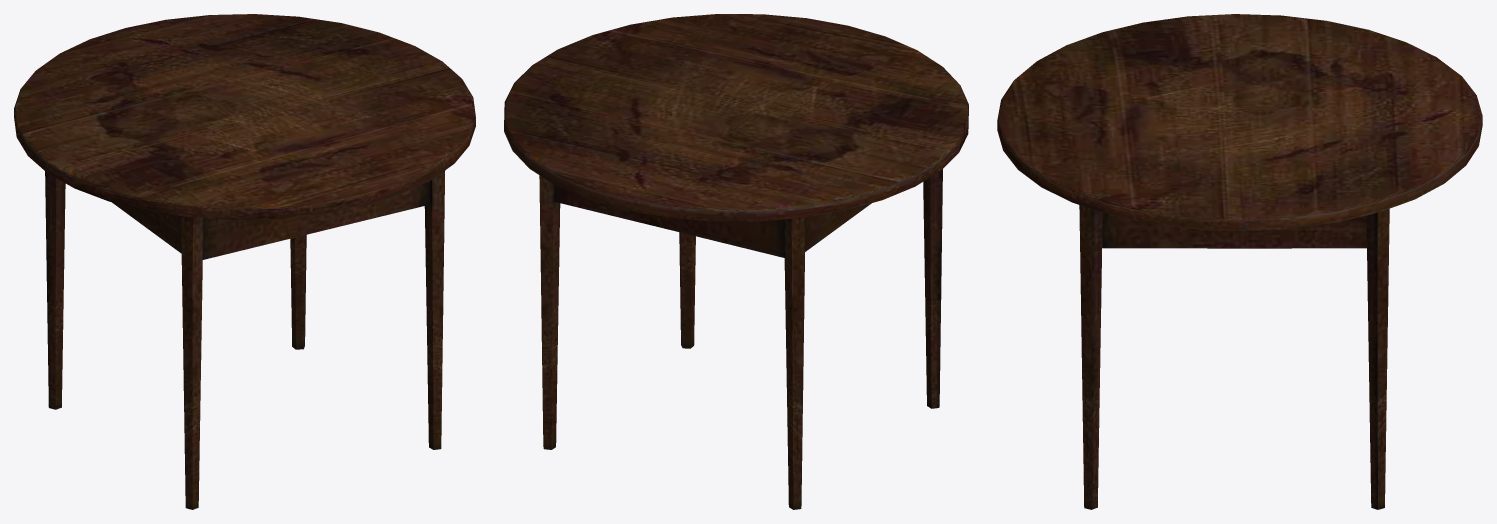
The model's file is furnituretable001a.glb.
3 renders of one model, left to right at view 1: azimuth 30°, elevation 25°; view 2: azimuth 150°, elevation 25°; view 3: azimuth 270°, elevation 25°, orthographic. The views are drawn at different scales.
Parts seen in each view (by area): view 1: 0_FurnitureTable001a; view 2: 0_FurnitureTable001a; view 3: 0_FurnitureTable001a.
Part boxes in pixels (x1,y1,x2,y2): 0_FurnitureTable001a: (14, 14, 475, 509); 0_FurnitureTable001a: (504, 14, 968, 509); 0_FurnitureTable001a: (997, 14, 1482, 509).
Size of the model in its own units: 1.23 by 0.9225 by 1.23.
1 material, 1 textured.
